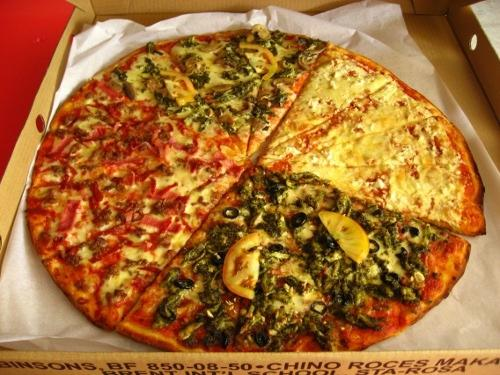tomato: (319, 212, 370, 264), (223, 232, 261, 300), (240, 44, 278, 80)
